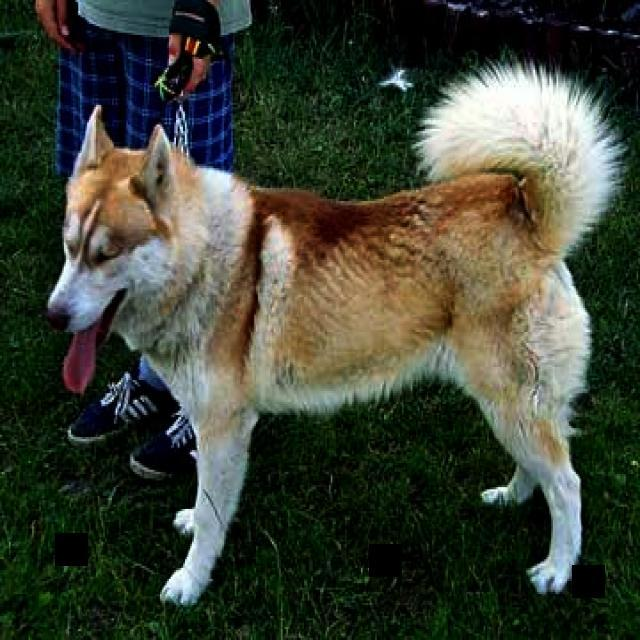adult_dog: (45, 53, 626, 608)
non-dog: (31, 1, 256, 485)
